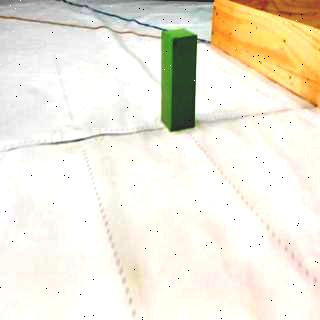greenbox: (161, 29, 198, 131)
